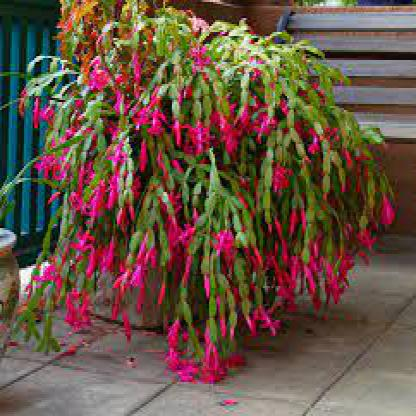Aglonema: (19, 15, 416, 137)
